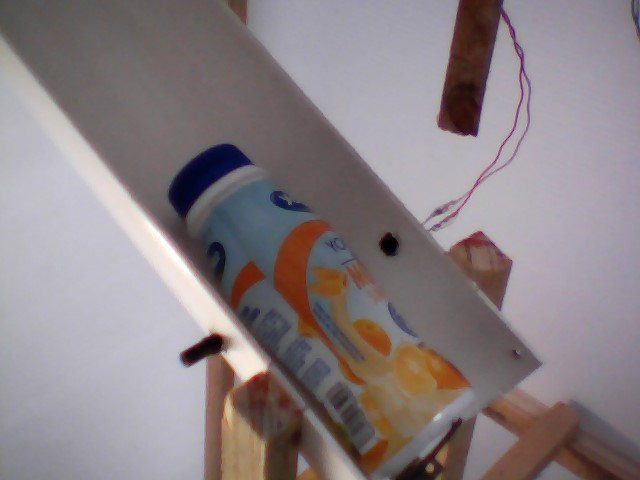plastico: (163, 140, 481, 480)
